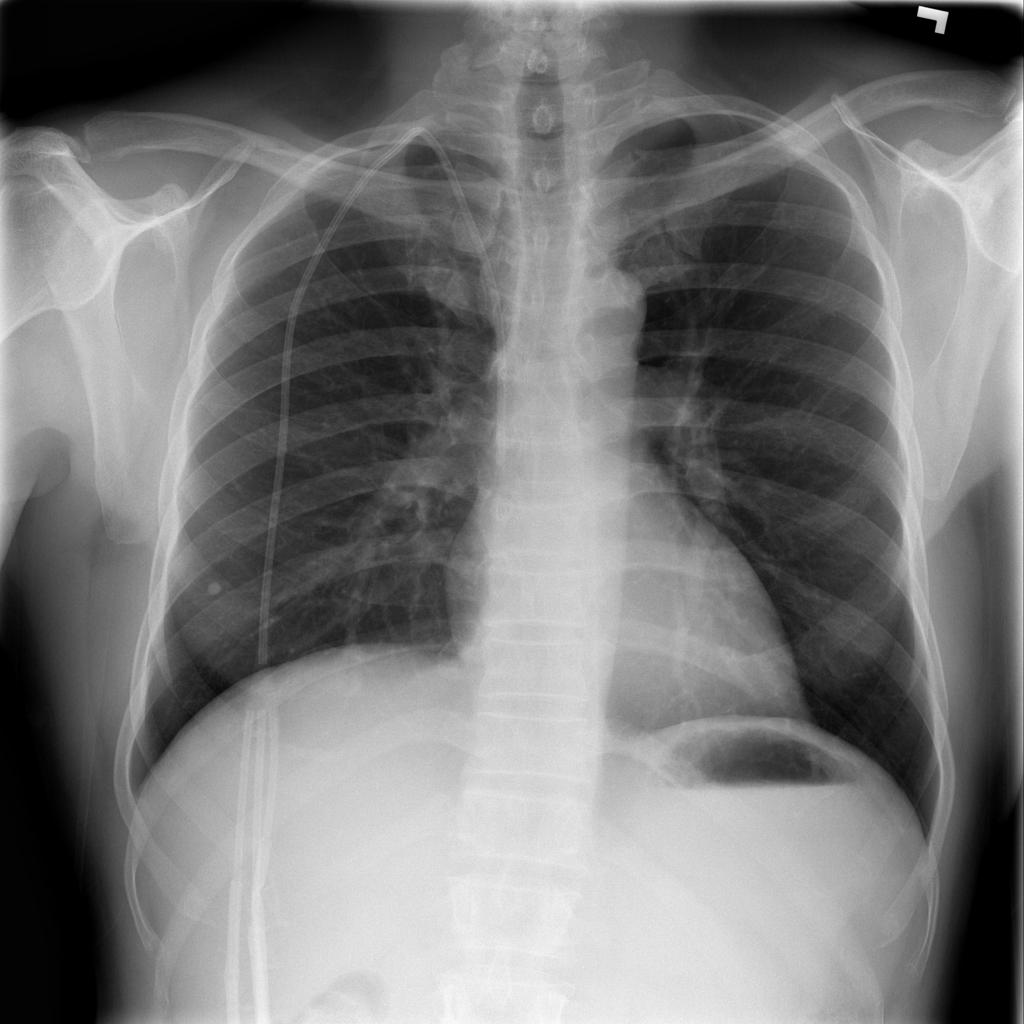nodule: (191, 565, 244, 610)
